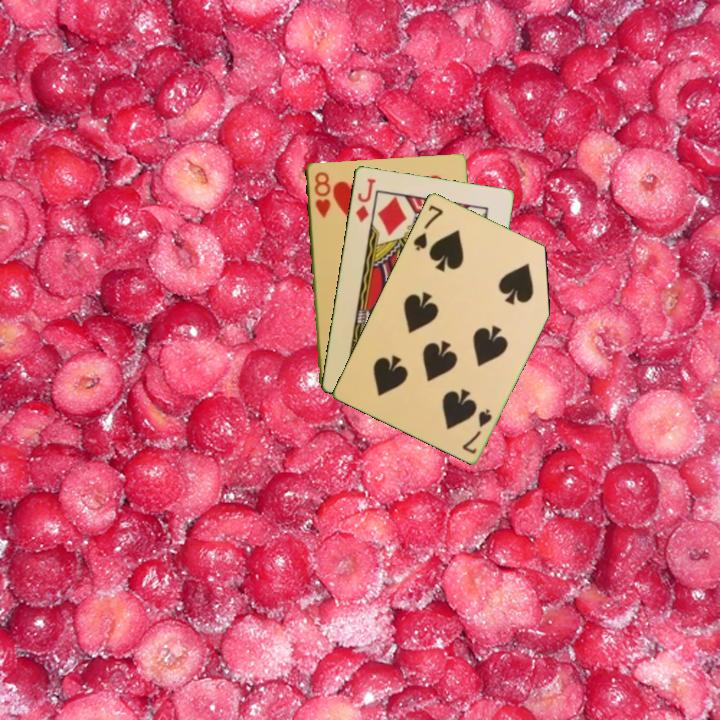7s: (409, 201, 446, 253), (459, 404, 495, 457)
8h: (310, 168, 333, 220)
Jd: (352, 174, 378, 225)
